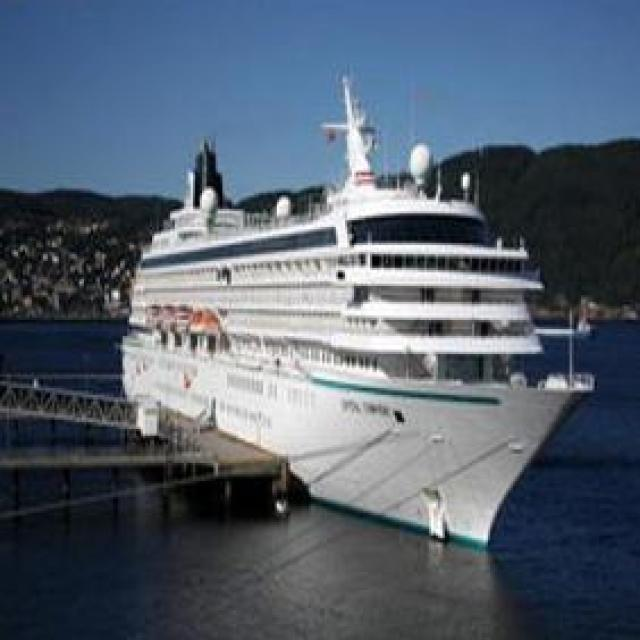passenger ship: (119, 73, 589, 555)
